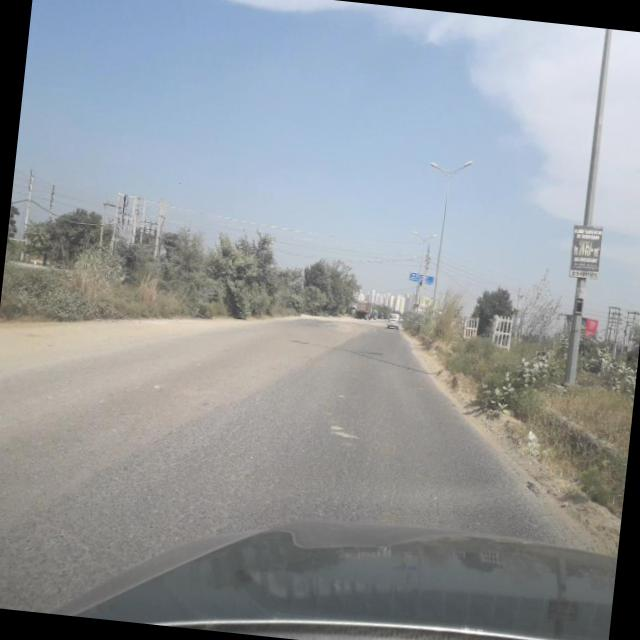crack: (62, 368, 565, 544)
